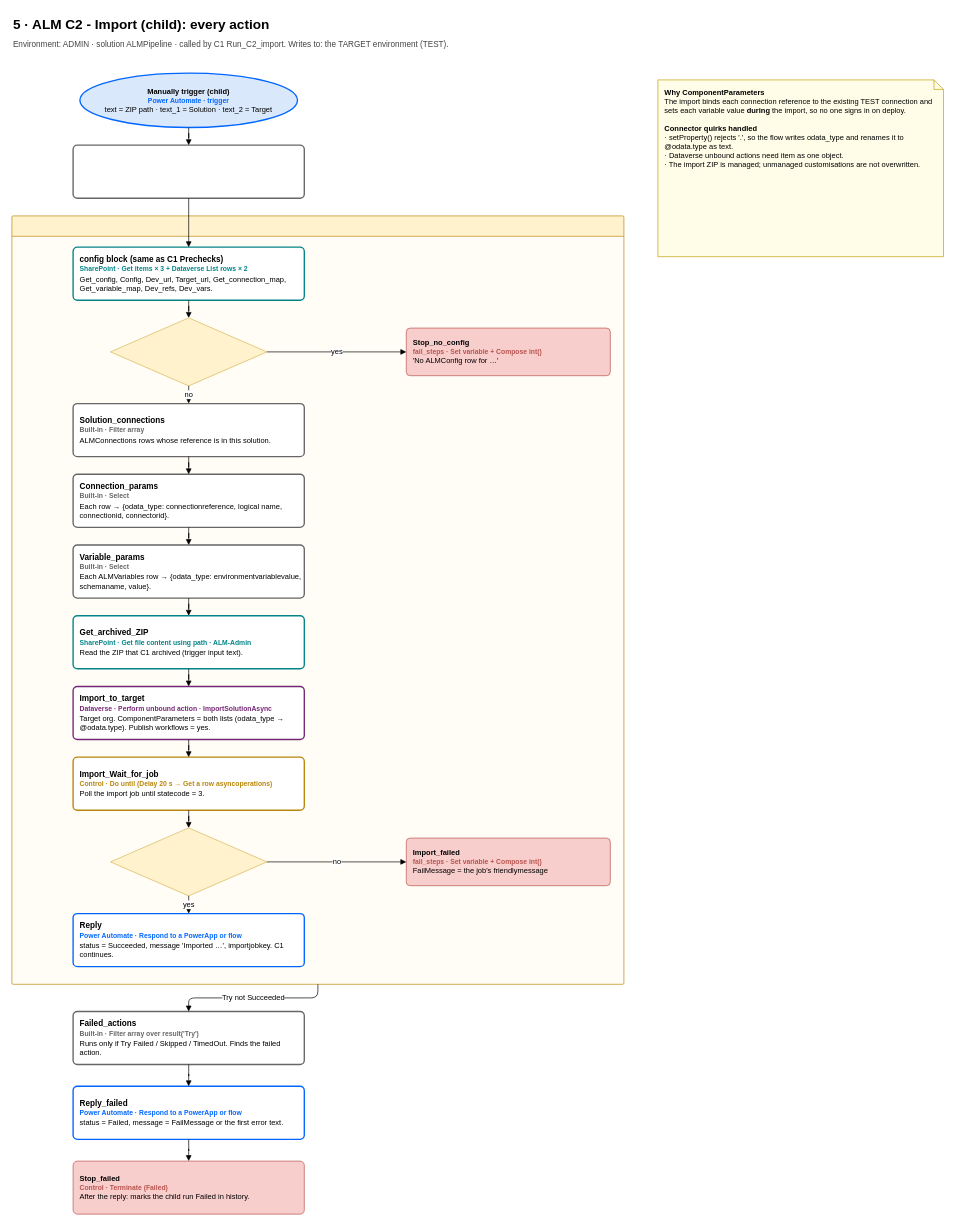
The diagram is 976 pixels wide and 1226 high, and some of its shapes have lost their labels. The box of each missing label's shape, as (x1, y1, x2, y2) in pixels:
Check_config no row found?: (110, 317, 267, 386)
Import_succeeded job succeeded?: (110, 827, 267, 896)
Init_FailMessage Built-in · Initialize variable FailMessage = '': (72, 144, 305, 199)
Scope Try · all real work (a failure inside fails the scope, no early Terminate): (11, 215, 624, 984)
